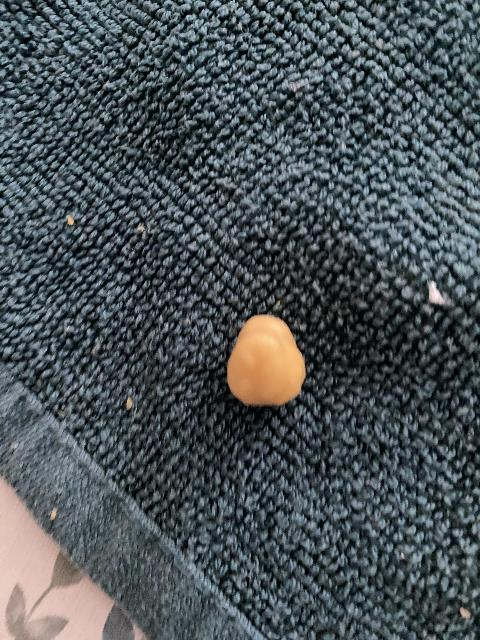Organik: (222, 306, 305, 422)
